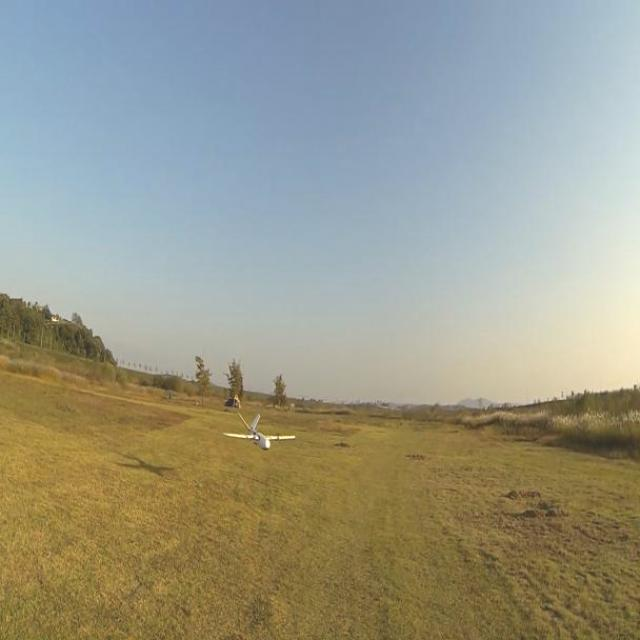iha: (252, 409, 266, 452)
